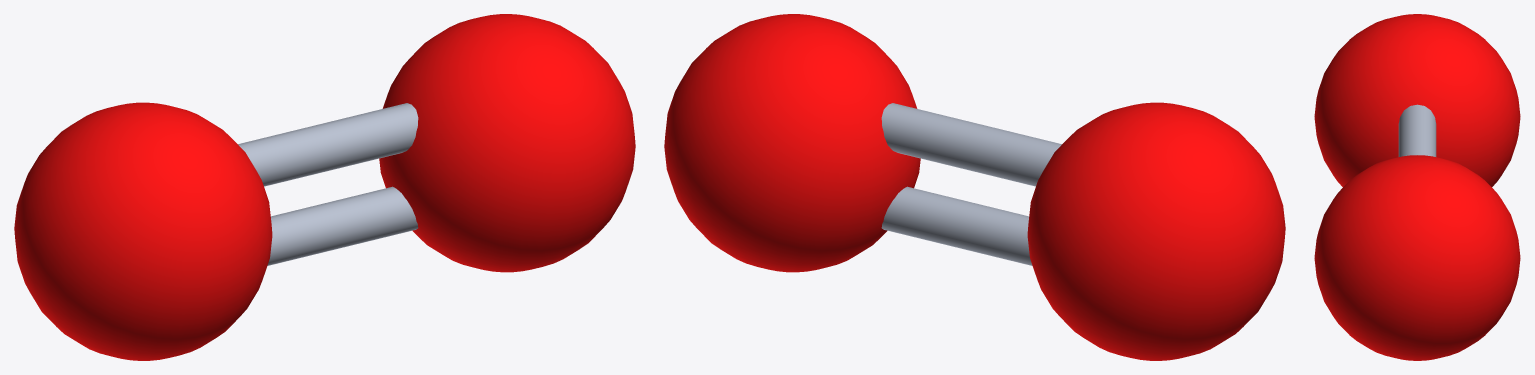
The picture shows the model from 3 angles, left to right: view 1: azimuth 30°, elevation 25°; view 2: azimuth 150°, elevation 25°; view 3: azimuth 270°, elevation 25°; orthographic projection. The views are drawn at different scales.
Parts seen in each view (by area): view 1: O (×2), bond (×2); view 2: O (×2), bond (×2); view 3: O (×2), bond.
Boxes of the visible parts, x1=… form: O (×2): x1=14, y1=14, x2=635, y2=360; bond (×2): x1=238, y1=103, x2=418, y2=265; O (×2): x1=664, y1=14, x2=1285, y2=360; bond (×2): x1=881, y1=103, x2=1061, y2=265; O (×2): x1=1314, y1=14, x2=1520, y2=360; bond: x1=1398, y1=104, x2=1436, y2=156.
Size of the model in its own units: 0.22 by 0.0839 by 0.0839.
